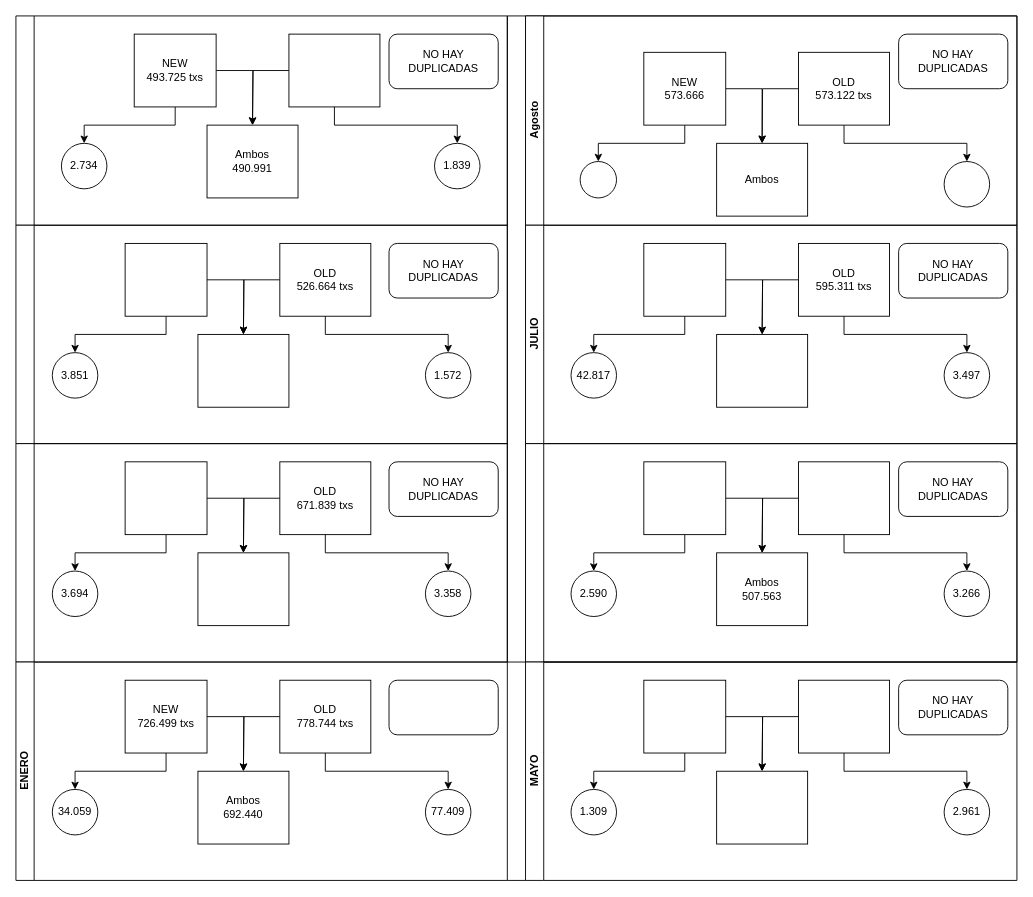
The diagram is 1033 pixels wide and 897 high, and some of its shapes have lost their labels. Each missing label, with the box of its shape:
17.962 txs duplicadas: (388, 679, 498, 735)
ABRIL: (15, 15, 507, 225)
Ambos 477.297: (716, 770, 808, 844)
Ambos 525.092: (197, 334, 289, 407)
Ambos 591.814: (716, 334, 808, 407)
Ambos 668.481: (197, 552, 289, 626)
FEBRERO: (15, 443, 507, 662)
JUNIO: (525, 443, 1017, 662)
MARZO: (15, 224, 507, 444)
Meses: (506, 15, 1017, 662)
NEW 478.606 txs: (643, 679, 726, 753)
NEW 510.153 txs: (643, 461, 726, 535)
NEW 528.943 txs: (124, 243, 207, 316)
NEW 634.631 txs: (643, 243, 726, 316)
NEW 672.175 txs: (124, 461, 207, 535)
OLD 480.258: (798, 679, 890, 753)
OLD 492.830 txs: (288, 33, 380, 107)
OLD 510.829 txs: (798, 461, 890, 535)
